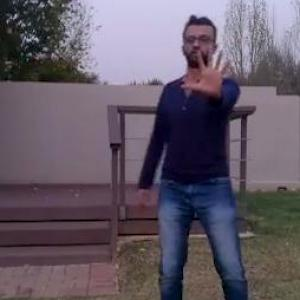follow_hand: (181, 46, 235, 98)
